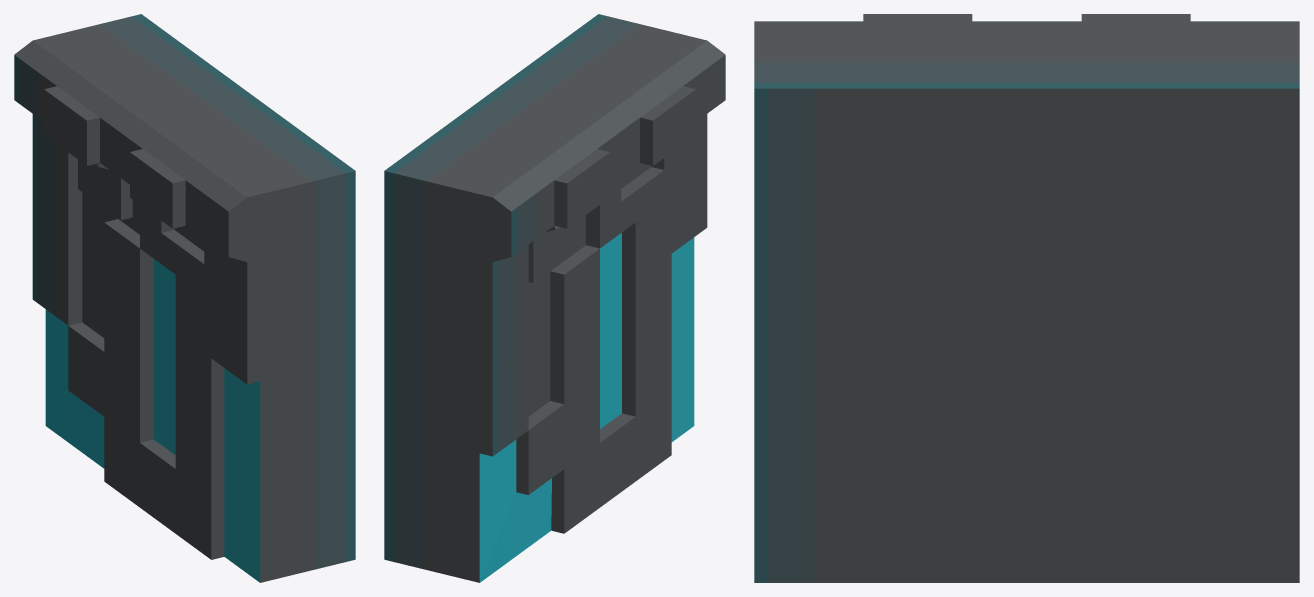
File: EspacioContenidoParedExteriorNI.gltf
3 renders of one model, left to right at view 1: azimuth 30°, elevation 25°; view 2: azimuth 150°, elevation 25°; view 3: azimuth 270°, elevation 25°, orthographic. The views are drawn at different scales.
Parts seen in each view (by area): view 1: Cubo.23; view 2: Cubo.23; view 3: Cubo.23.
Part boxes in pixels (x1,y1,x2,y2): Cubo.23: (14, 14, 355, 582); Cubo.23: (384, 14, 725, 582); Cubo.23: (754, 14, 1299, 582).
Size of the model in its own units: 0.755 by 2 by 2.
Materials: 1 (1 with a texture image).
